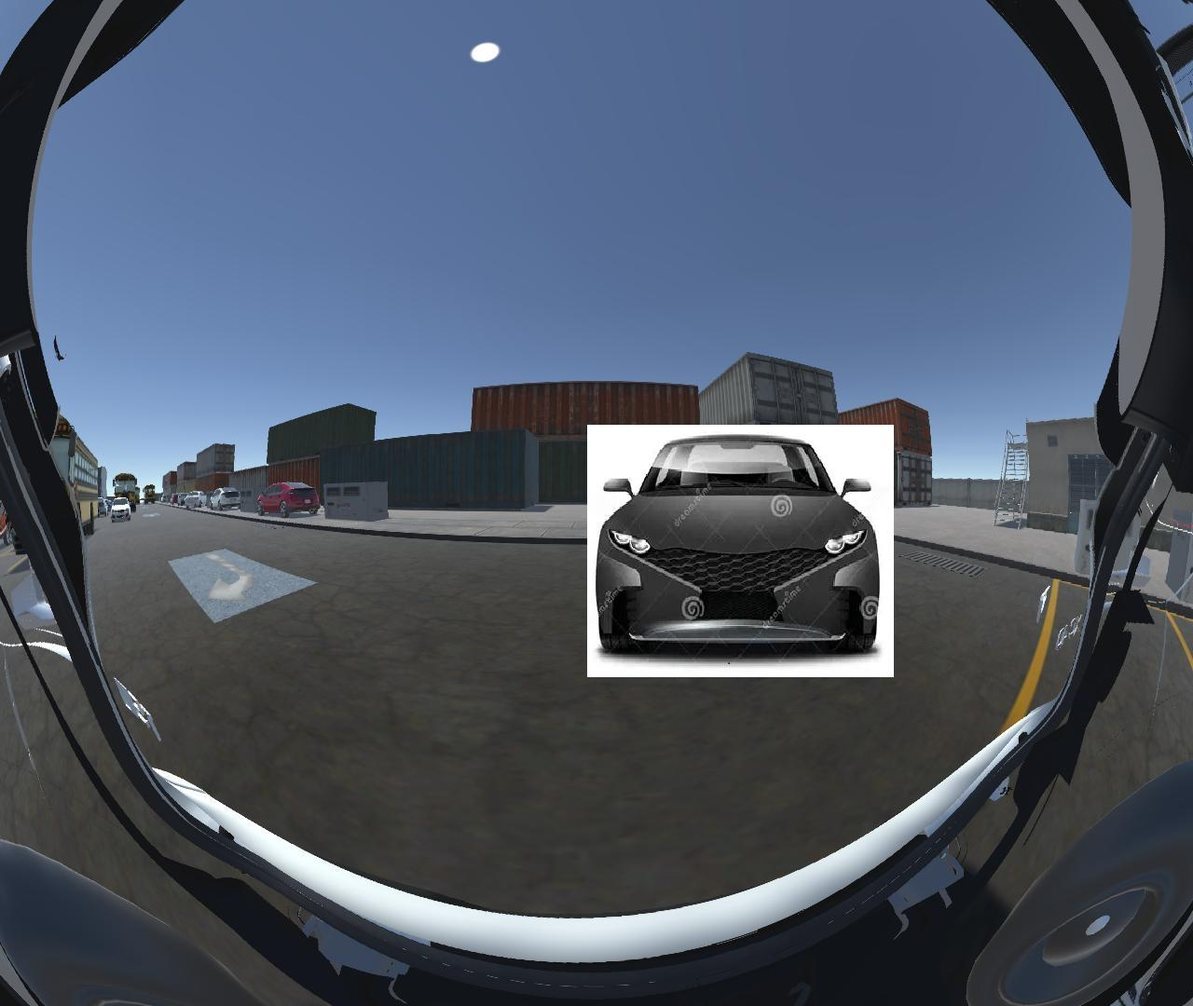Car: (585, 423, 890, 678)
